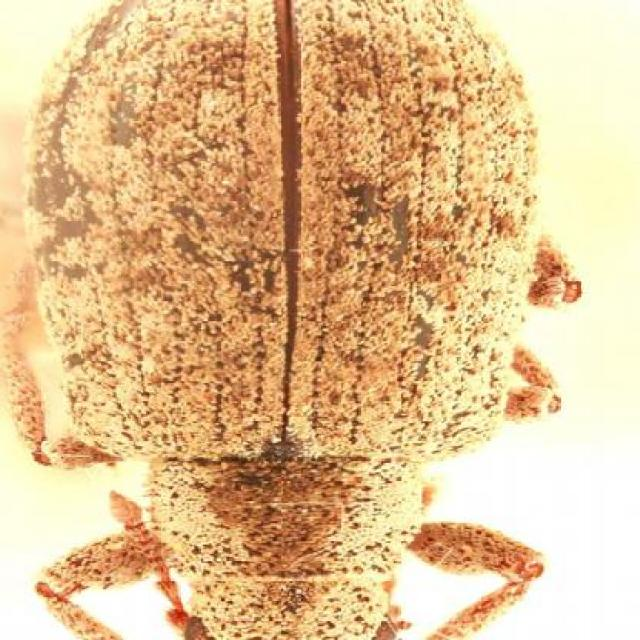rice-bug: (18, 0, 556, 640)
